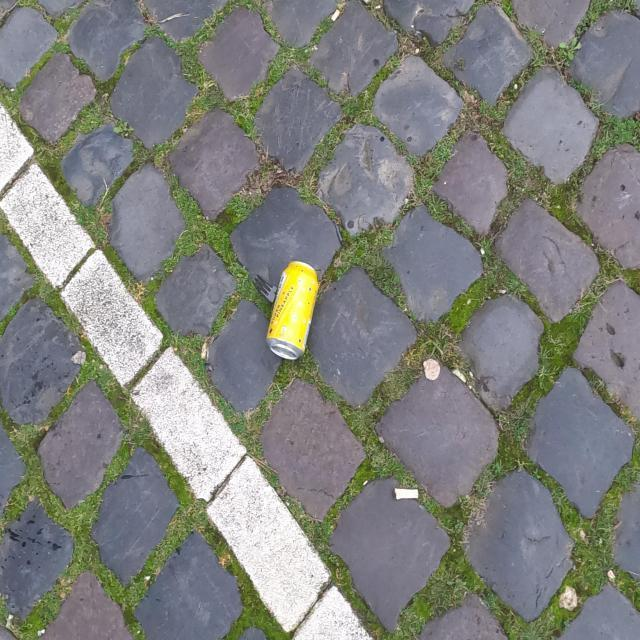Cup: (264, 258, 320, 364)
